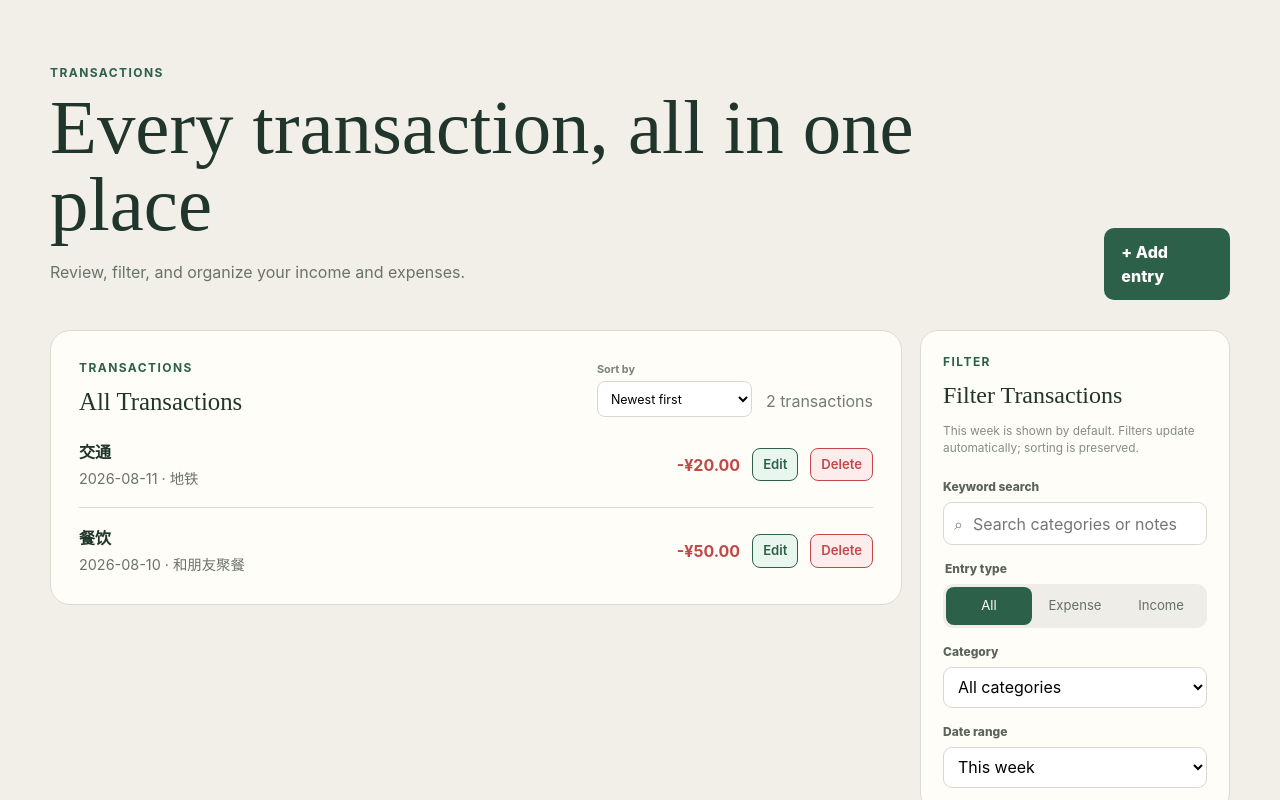
RecordsView › 按分类或备注关键词搜索并过滤后端返回结果
The width and height of the screenshot is (1280, 800).
In the search field with id "filter-keyword": coordinates (1084, 524) [963, 503, 1206, 544], type "朋友"
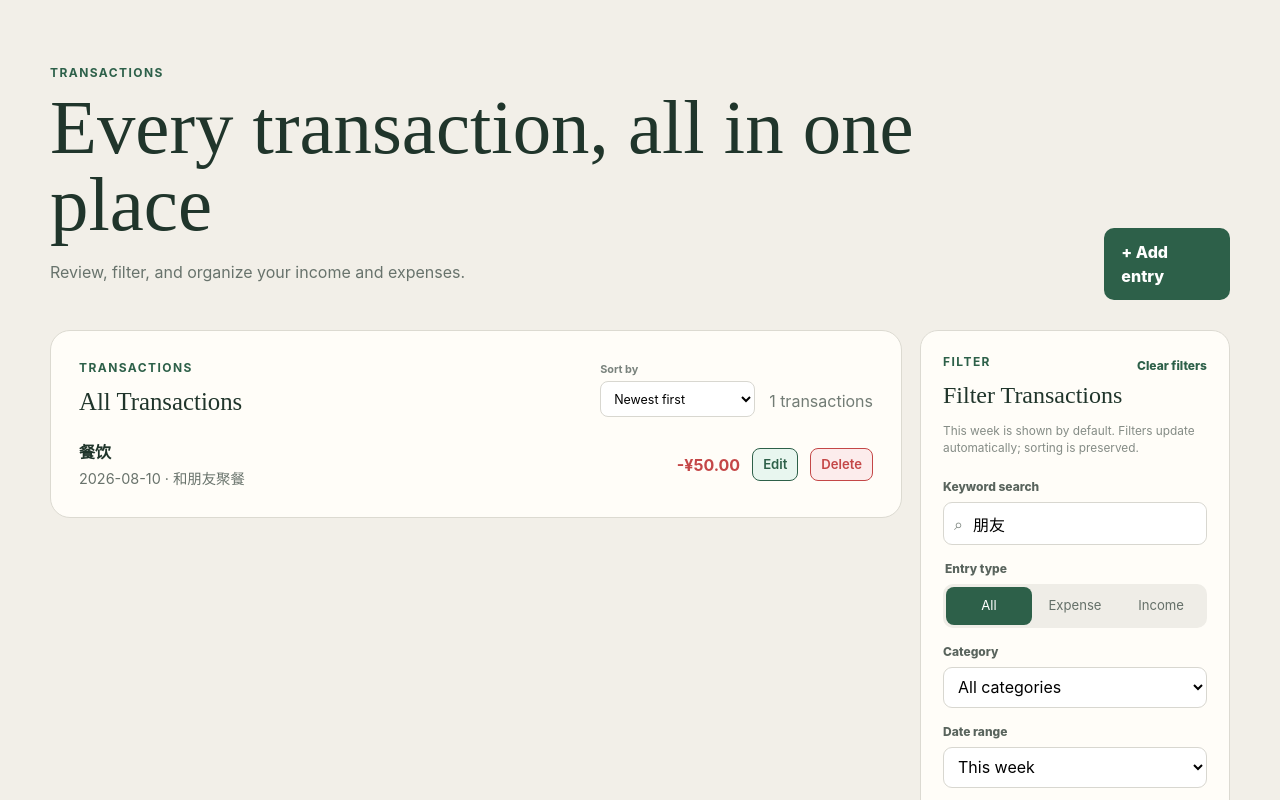
Expected: the text "和朋友聚餐" is shown, [79, 470, 245, 487]
Expected: the text "地铁" is gone
